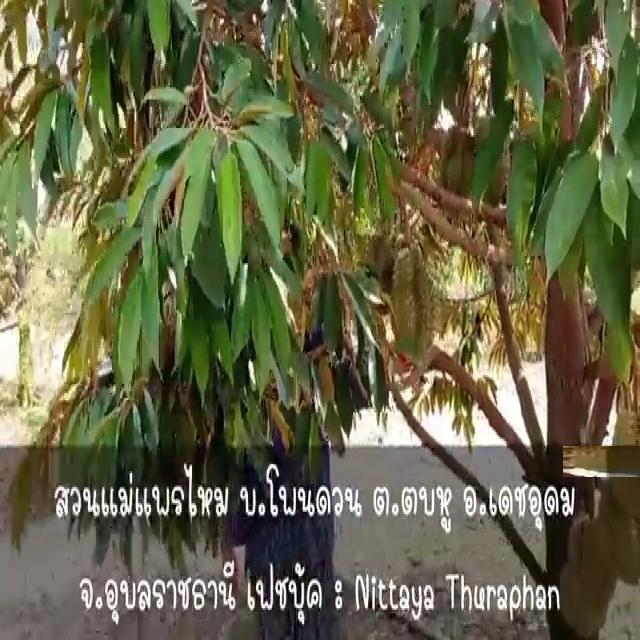durian: (386, 243, 439, 379), (585, 423, 640, 499)
